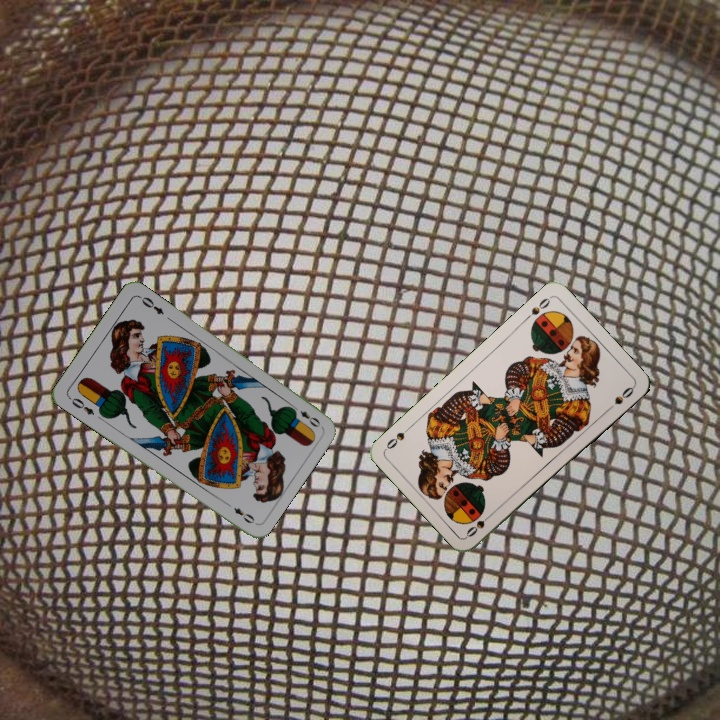EO: (288, 401, 323, 430), (65, 393, 97, 418)
SO: (462, 508, 496, 540), (520, 293, 553, 324)
